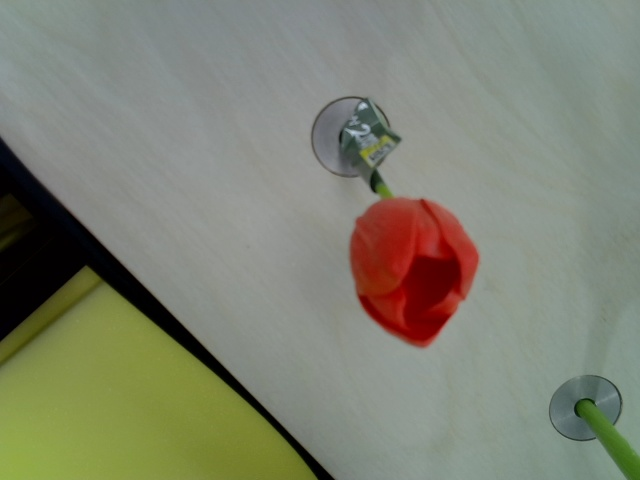튤립: (346, 196, 481, 348)
